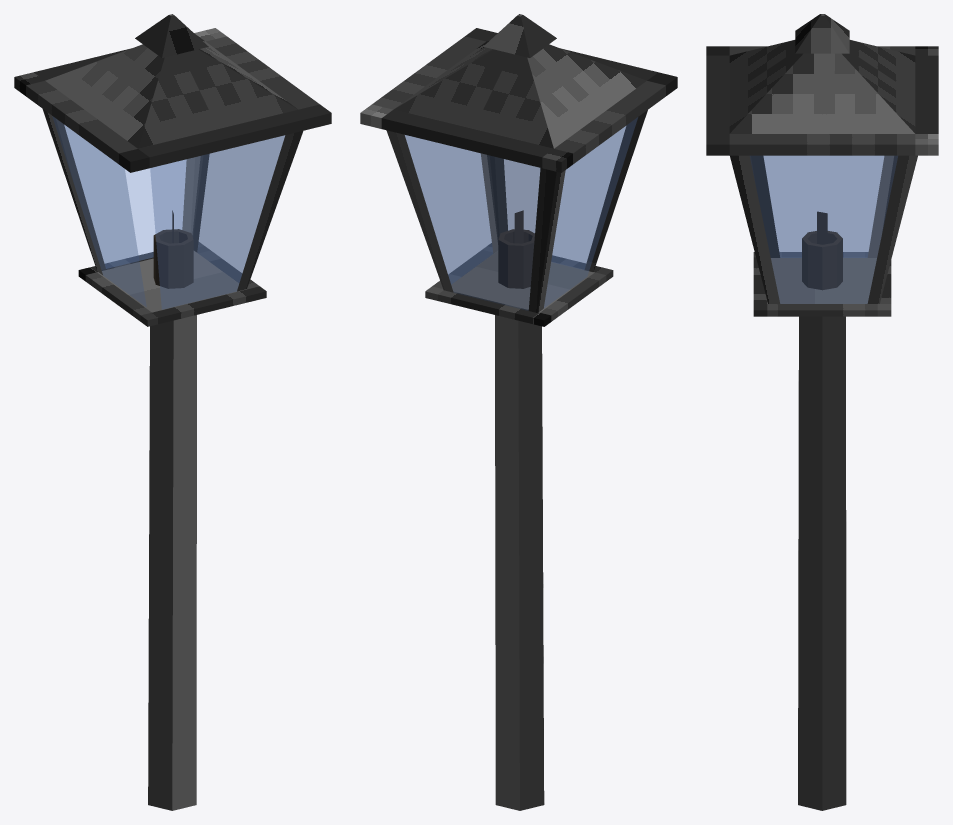
Rendered from lamp_post_889x06.gltf.
3 views of the same model, side by side, from view 1: azimuth 30°, elevation 25°; view 2: azimuth 150°, elevation 25°; view 3: azimuth 270°, elevation 25° (orthographic).
Parts seen in each view (by area): view 1: lamp_post_889x06; view 2: lamp_post_889x06; view 3: lamp_post_889x06.
Boxes of the visible parts, x1,y1,x2,y2 form: lamp_post_889x06: (14,14,331,810); lamp_post_889x06: (360,14,677,810); lamp_post_889x06: (706,14,938,810).
Size of the model in its own units: 2 by 7.45 by 2.
Materials: 2 (1 with a texture image).
